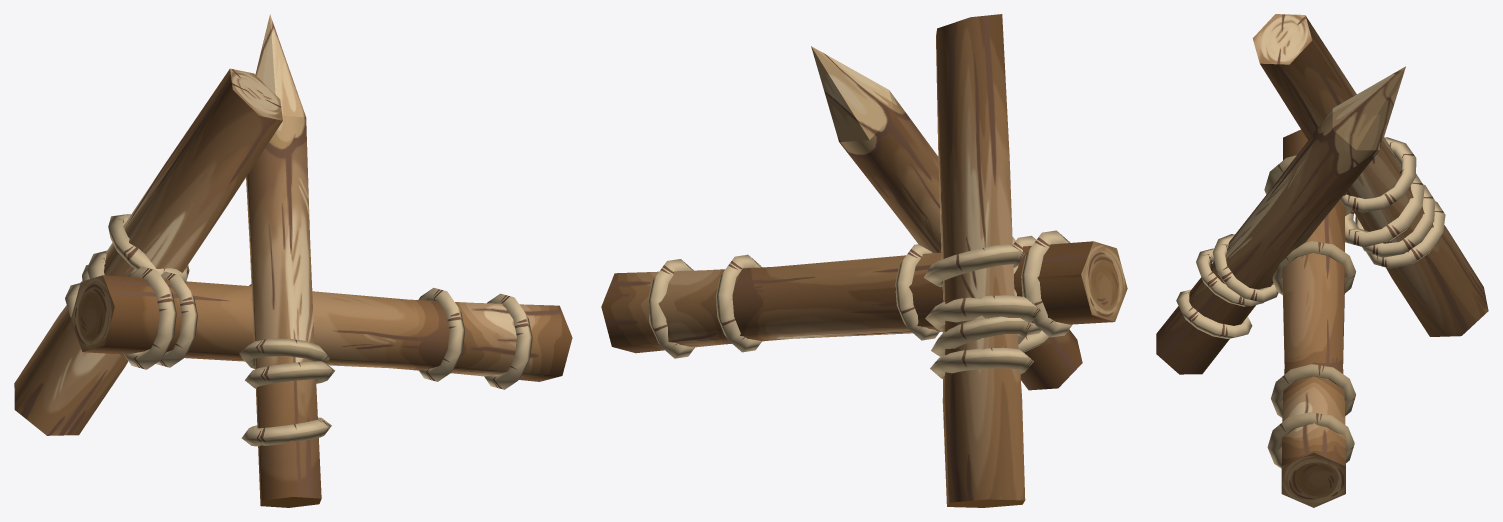
Rendered from muzhalan01.fbx.
3 renders of one model, left to right at view 1: azimuth 30°, elevation 25°; view 2: azimuth 150°, elevation 25°; view 3: azimuth 270°, elevation 25°, orthographic. The views are drawn at different scales.
Parts seen in each view (by area): view 1: MZL; view 2: MZL; view 3: MZL.
Part boxes in pixels (bbox=[...]): MZL: bbox=[14, 14, 572, 507]; MZL: bbox=[601, 14, 1127, 507]; MZL: bbox=[1156, 14, 1488, 507].
Size of the model in its own units: 22.86 by 18.22 by 15.3.
1 material, 1 textured.
